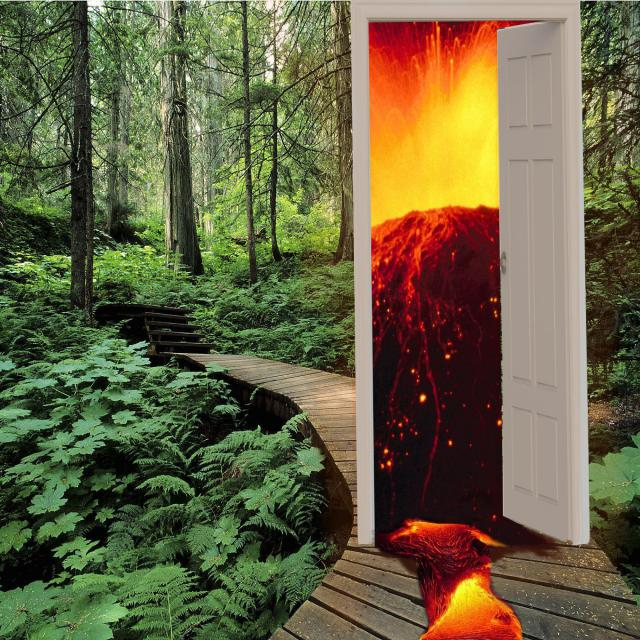open: (347, 2, 598, 555)
